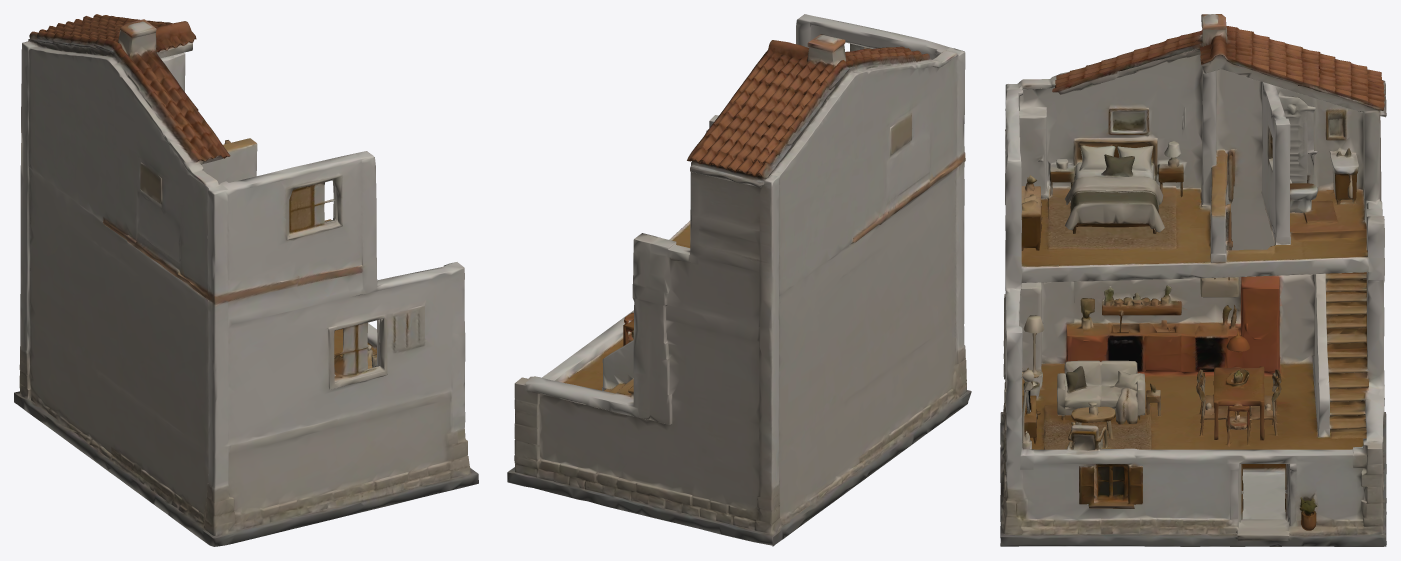
File: casa.glb
3 renders of one model, left to right at view 1: azimuth 30°, elevation 25°; view 2: azimuth 150°, elevation 25°; view 3: azimuth 270°, elevation 25°, orthographic. The views are drawn at different scales.
Visible parts, largest first — view 1: tripo_node_29609a95-9589-400a-82f2-5a6802e1cf57; view 2: tripo_node_29609a95-9589-400a-82f2-5a6802e1cf57; view 3: tripo_node_29609a95-9589-400a-82f2-5a6802e1cf57.
Boxes of the visible parts, x1,y1,x2,y2 form: tripo_node_29609a95-9589-400a-82f2-5a6802e1cf57: [14, 14, 478, 546]; tripo_node_29609a95-9589-400a-82f2-5a6802e1cf57: [507, 14, 971, 546]; tripo_node_29609a95-9589-400a-82f2-5a6802e1cf57: [1000, 14, 1386, 546].
Bounding box in the file's own units: 0.6557 × 1 × 0.8282.
Materials: 1 (1 with a texture image).
